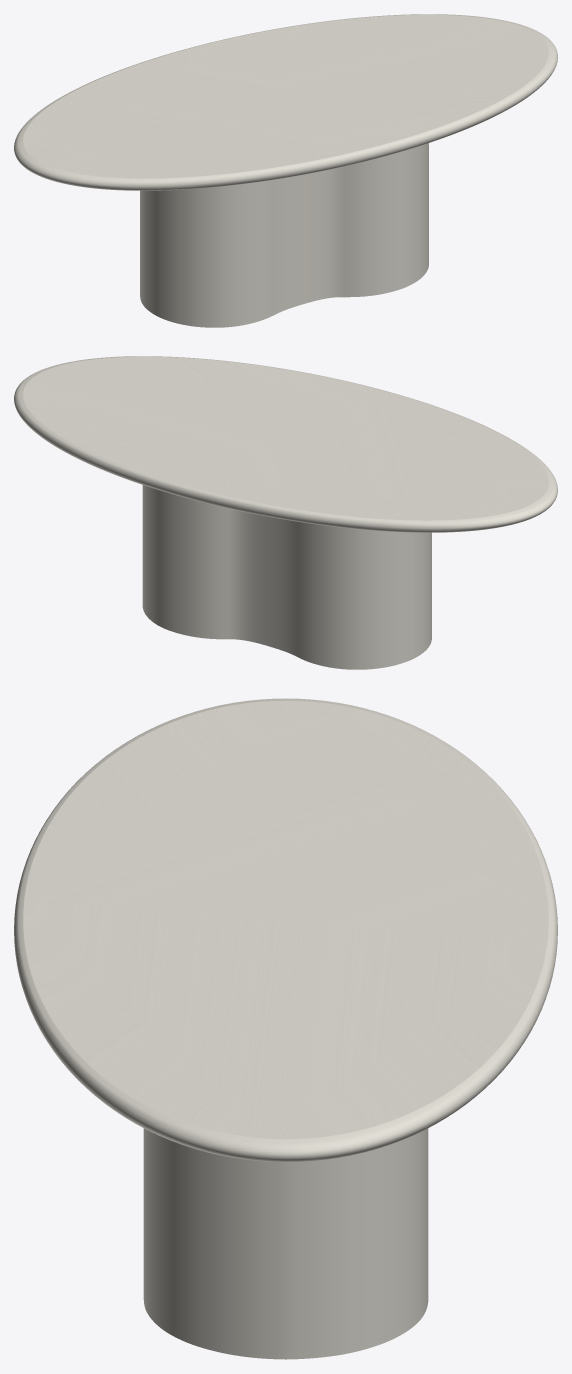
The model's file is pale_ellips_round_riverwave.glb.
3 views of the same model, one above another, from view 1: azimuth 30°, elevation 25°; view 2: azimuth 150°, elevation 25°; view 3: azimuth 270°, elevation 25° (orthographic). The views are drawn at different scales.
Parts seen in each view (by area): view 1: round_ellips, riverwave; view 2: round_ellips, riverwave; view 3: round_ellips, riverwave.
Boxes of the visible parts, bbox=[...] form: round_ellips: bbox=[14, 14, 557, 190]; riverwave: bbox=[140, 143, 428, 327]; round_ellips: bbox=[14, 356, 557, 532]; riverwave: bbox=[142, 485, 431, 669]; round_ellips: bbox=[14, 698, 557, 1162]; riverwave: bbox=[143, 1128, 428, 1359].
Bounding box in the file's own units: 7.5 × 2.5 × 3.8.
Materials: 1 (1 with a texture image).
